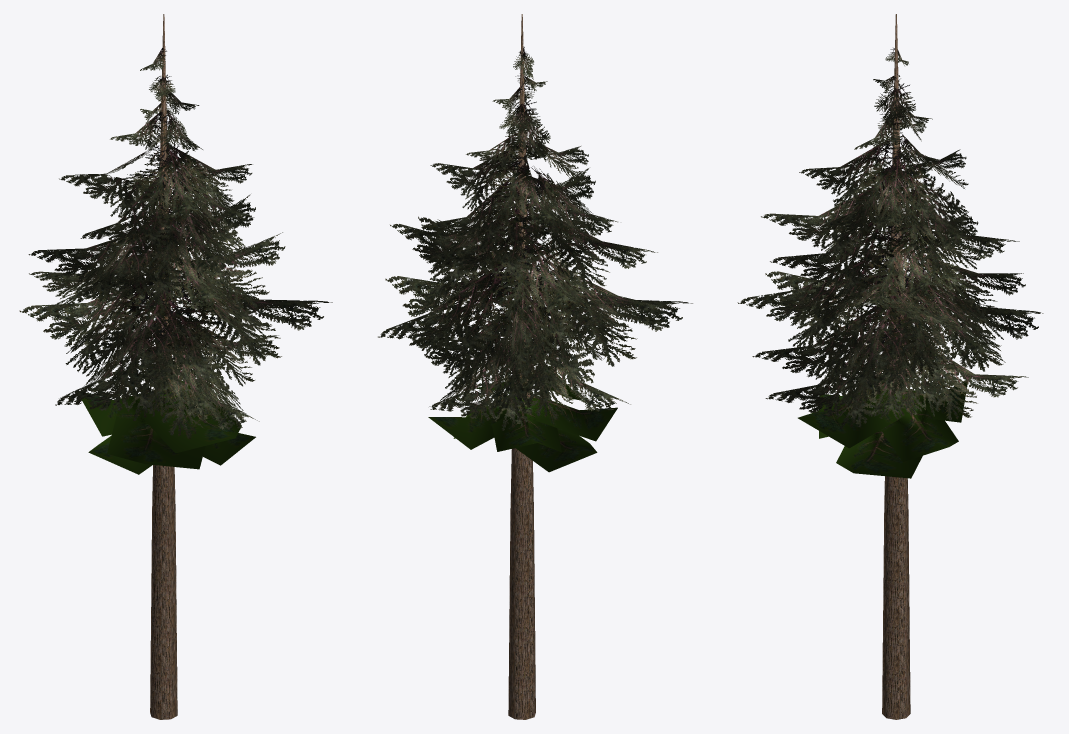
File: ever_pinetree_medium_l0.fbx
3 views of the same model, side by side, from view 1: azimuth 30°, elevation 25°; view 2: azimuth 150°, elevation 25°; view 3: azimuth 270°, elevation 25° (orthographic).
Parts seen in each view (by area): view 1: mesh_node; view 2: mesh_node; view 3: mesh_node.
Boxes of the visible parts, x1,y1,x2,y2 form: mesh_node: (19,14,332,719); mesh_node: (378,14,692,719); mesh_node: (737,14,1043,719).
Size of the model in its own units: 6.89 by 15.77 by 6.6.
